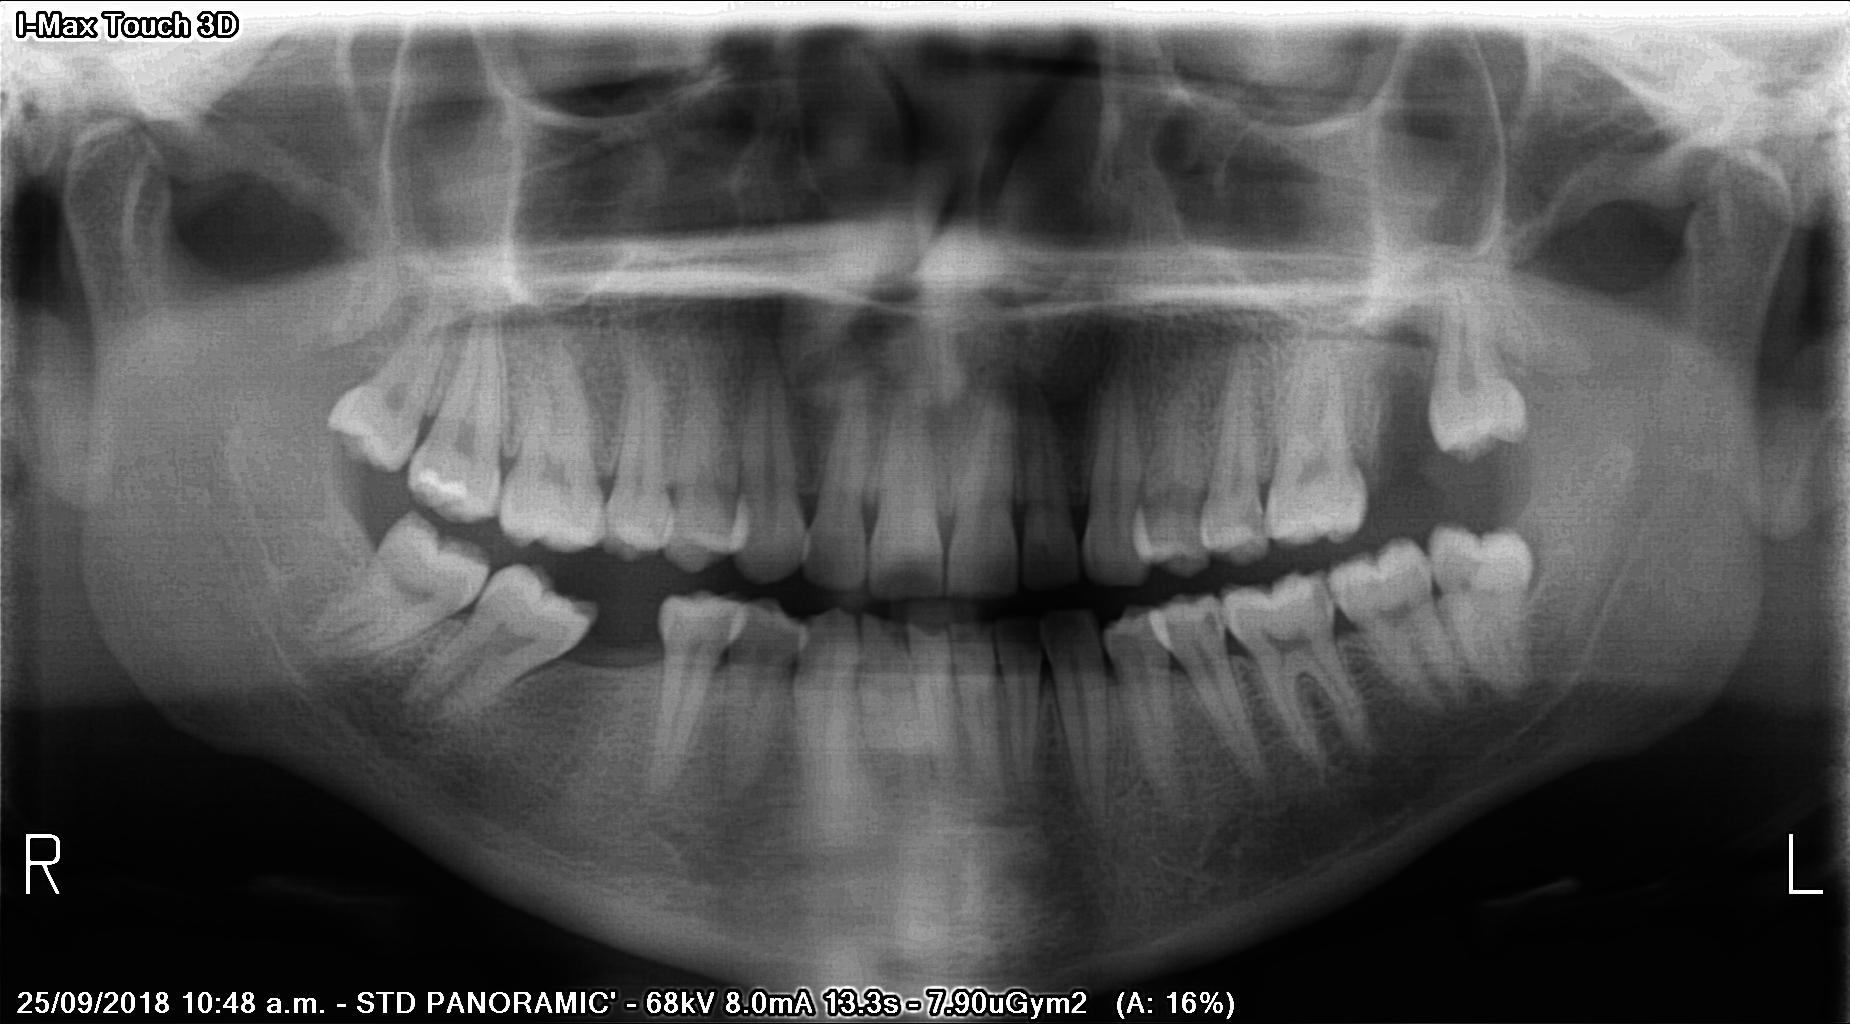Çürük: (414, 462, 479, 502)
